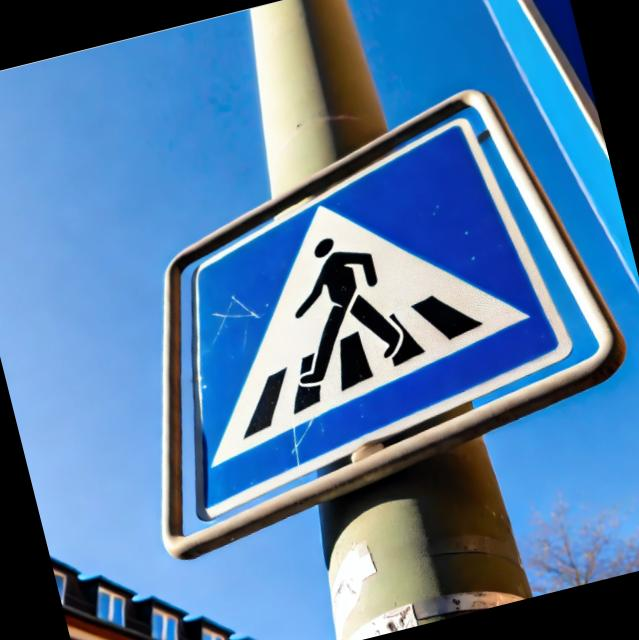crosswalk-sign: (77, 68, 639, 560)
